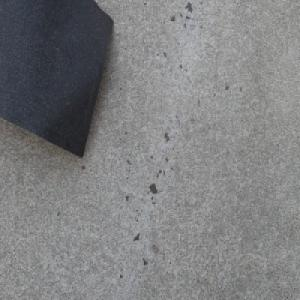PaintChip: (0, 0, 114, 159)
